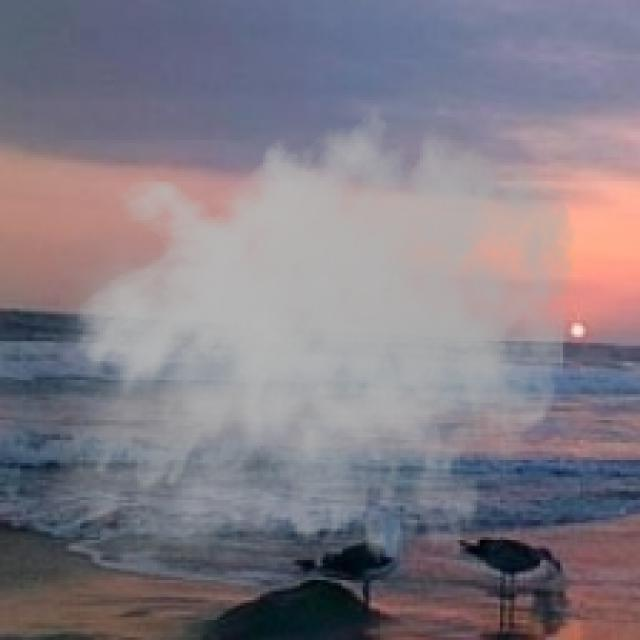smoke: (26, 91, 577, 623)
